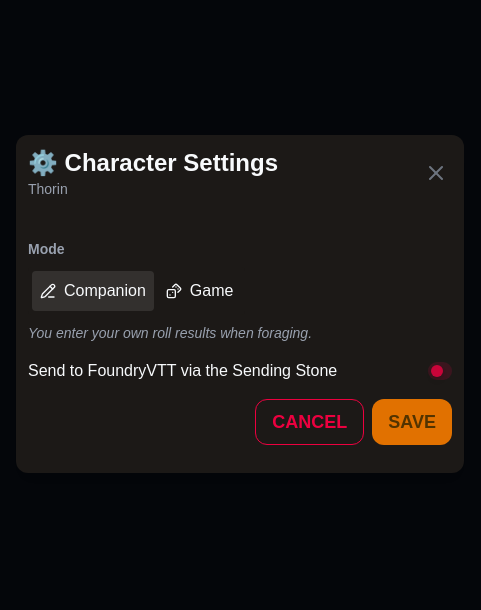
Test case: components/modals/character-settings-modal › should link the character at once, then show when
The image size is (481, 610).
Click the checkbox labelled "Send to FoundryVTT via the Sending Stone" at (240, 371), box 28,359 -> 452,383
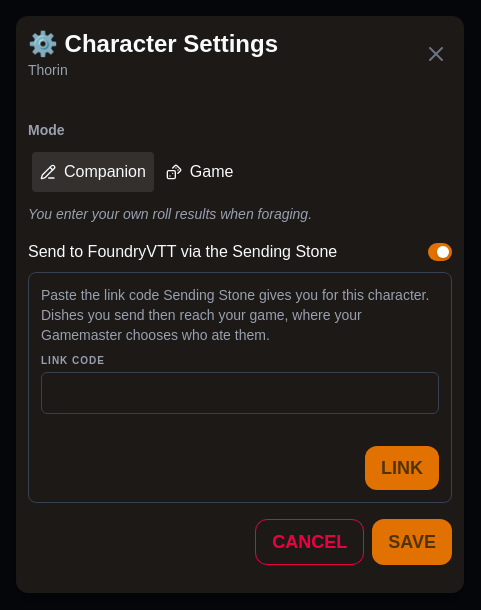
Type "ss_abc123" into the field with test id "link-sending-stone-form__token" at (240, 392), box 41,372 -> 439,414
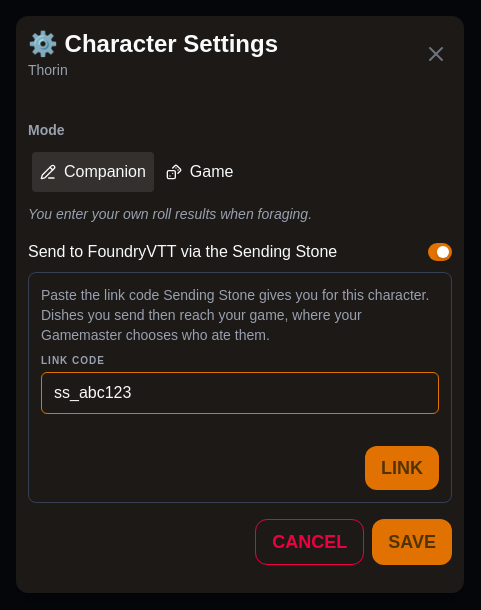
Click the button "Link" at (402, 468), box 365,446 -> 439,490
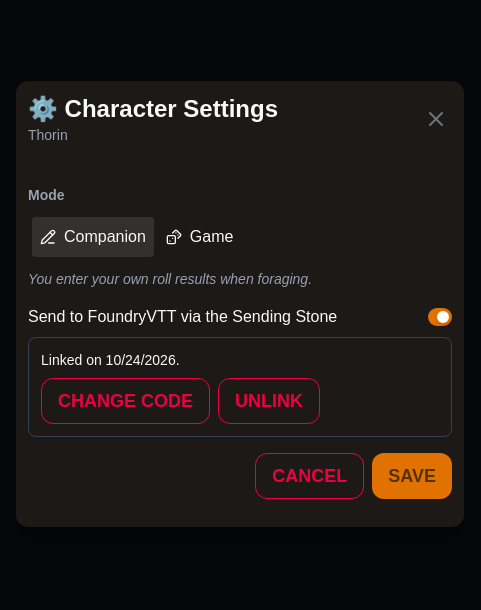
Result: the text "Linked on 10/24/2026." is shown at 41,350 -> 180,370
Result: the field with test id "link-sending-stone-form__token" is gone
